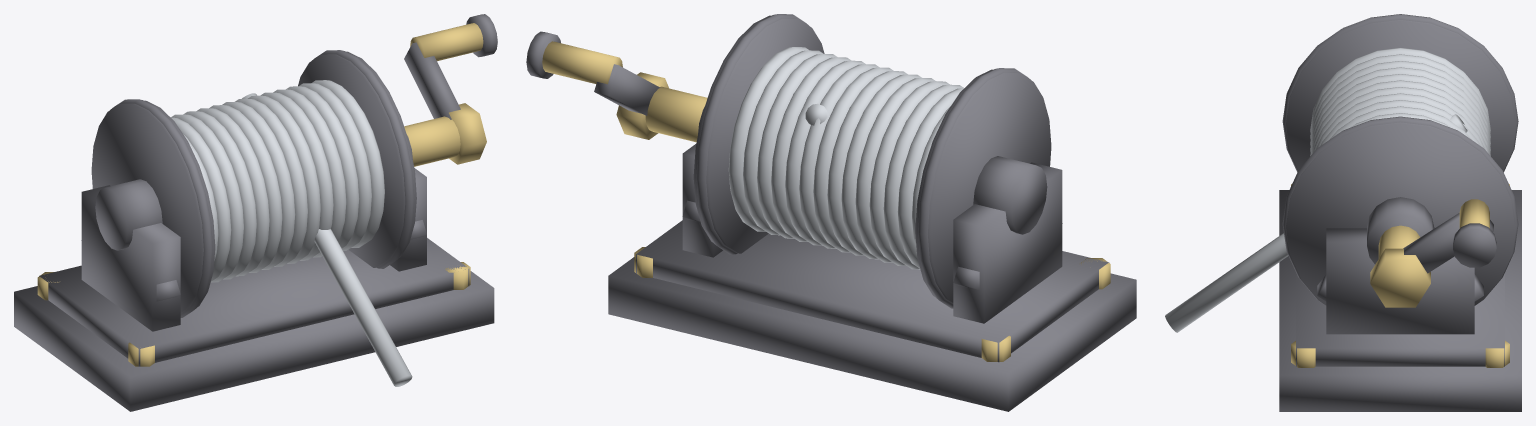
File: miner_winch.glb
3 views of the same model, side by side, from view 1: azimuth 30°, elevation 25°; view 2: azimuth 150°, elevation 25°; view 3: azimuth 270°, elevation 25° (orthographic). The views are drawn at different scales.
Parts seen in each view (by area): view 1: MiningWinch; view 2: MiningWinch; view 3: MiningWinch.
Part boxes in pixels (box(x1,y1,x2,y2)): MiningWinch: box(14, 14, 497, 411); MiningWinch: box(526, 14, 1136, 411); MiningWinch: box(1165, 14, 1521, 411).
Bounding box in the file's own units: 1.25 × 0.6444 × 0.8219.
